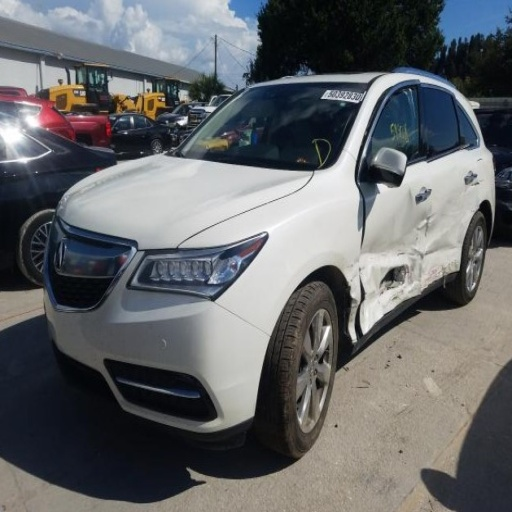dent: (361, 187, 426, 330), (422, 187, 474, 289), (347, 299, 359, 341), (351, 284, 359, 298), (352, 260, 358, 270)
rust: (304, 259, 359, 320), (418, 255, 461, 292), (460, 198, 483, 243), (464, 172, 485, 190), (460, 166, 475, 184)
scratch: (407, 284, 415, 294), (418, 222, 427, 230), (426, 213, 434, 222), (351, 275, 357, 282), (397, 252, 405, 257), (409, 253, 415, 257), (370, 255, 375, 259), (347, 264, 353, 267), (416, 236, 418, 240)
